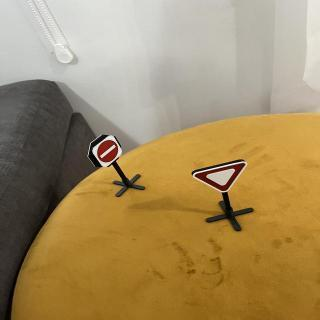sign_noentry: (92, 135, 125, 170)
sign_yield: (193, 161, 250, 195)
